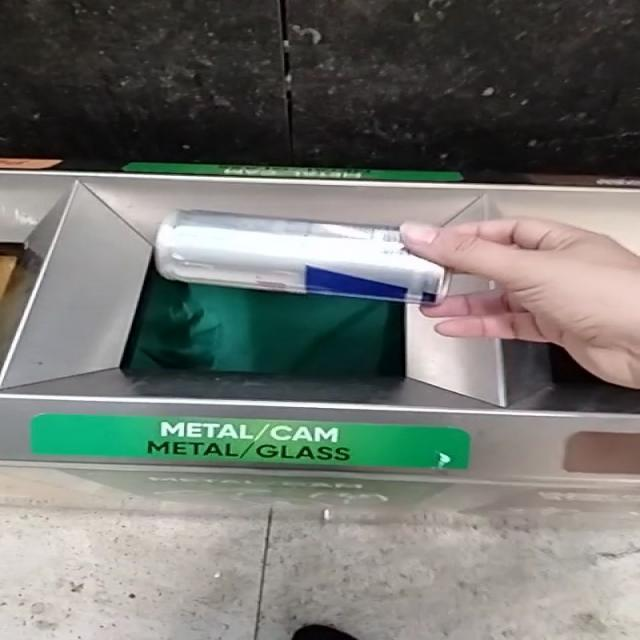Bin: (0, 172, 639, 480)
Metal: (155, 210, 449, 304)
